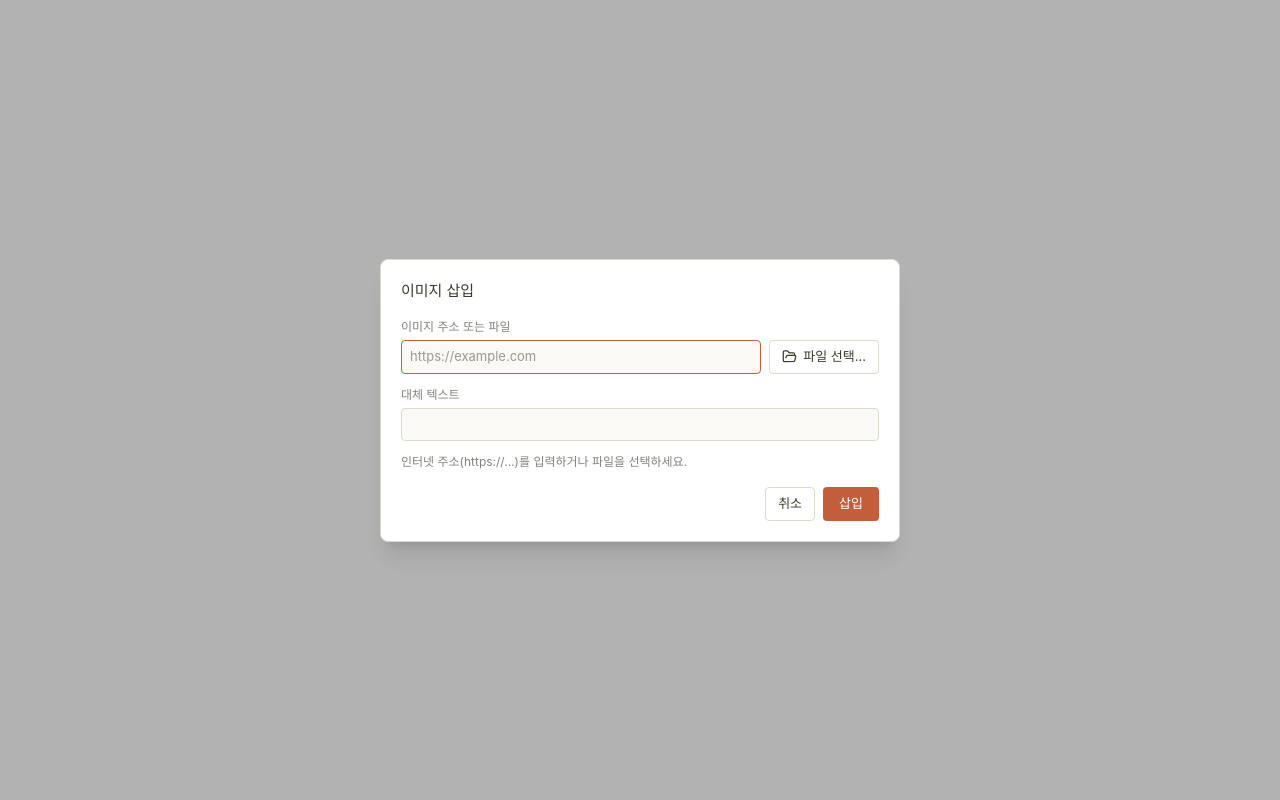
Test: InsertDialog › shows the picker error message
This screenshot has width=1280, height=800.
Click the button "파일 선택…" at (824, 357), box left=769, top=340, right=879, bottom=374
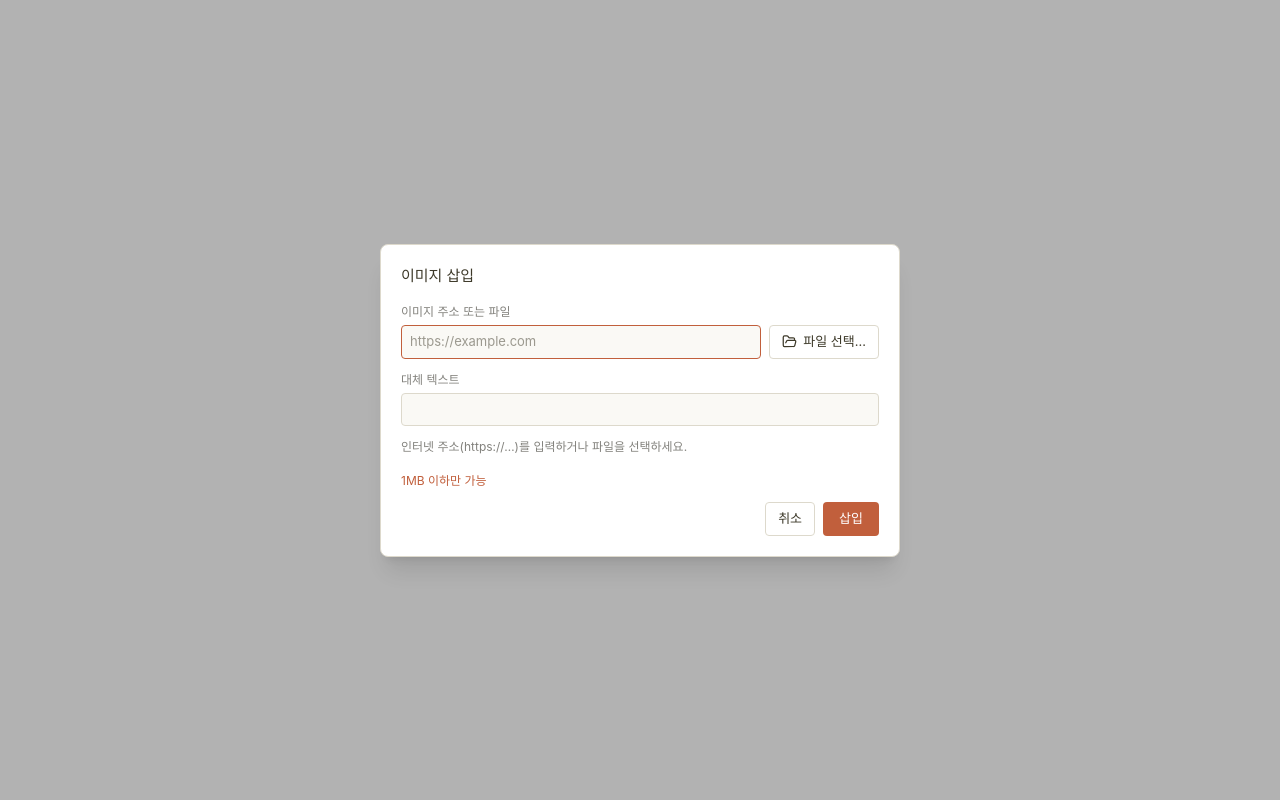
Result: the message reads "1MB 이하만 가능" at left=401, top=473, right=486, bottom=488
